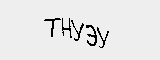Н: (59, 15, 71, 40)
Т: (42, 16, 59, 39)
У: (70, 19, 84, 44), (96, 27, 109, 52)
Э: (84, 22, 98, 49)
